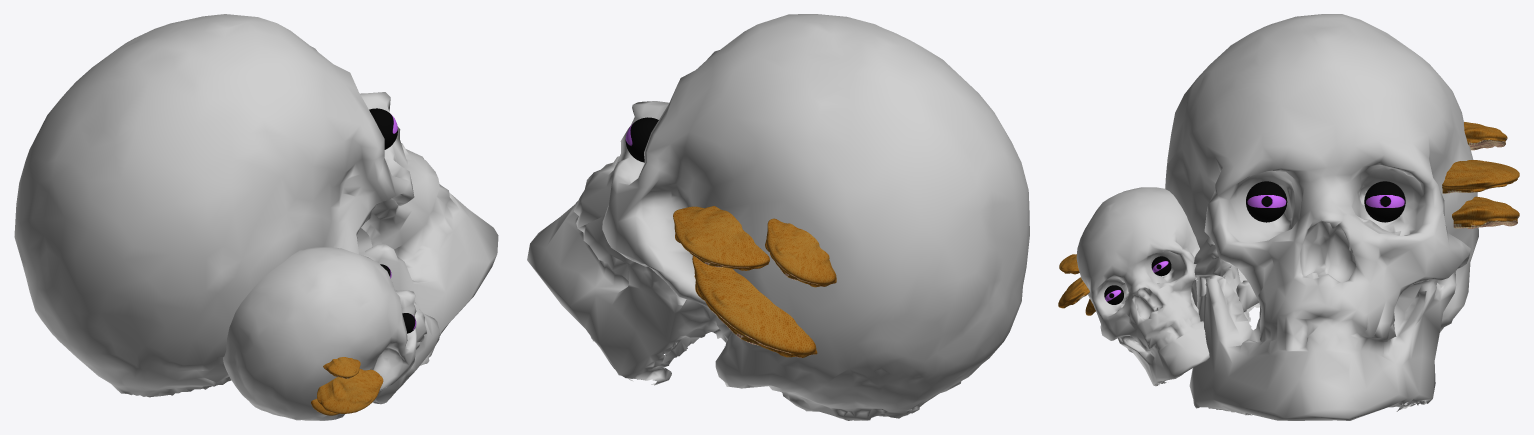
The model's file is myco.fbx.
3 views of the same model, side by side, from view 1: azimuth 30°, elevation 25°; view 2: azimuth 150°, elevation 25°; view 3: azimuth 270°, elevation 25° (orthographic). The views are drawn at different scales.
Parts seen in each view (by area): view 1: Skull, Skull.001, Sphere.003, Eyeball_Right.001, Sphere.004; view 2: Skull, Sphere, Sphere.001, Sphere.002, Eyeball_Right; view 3: Skull, Skull.001, Sphere.001, Sphere, Eyeball_Right, Eyeball_Right.001, Sphere.002, Sphere.003.
Part boxes in pixels (bbox=[...]): Skull: bbox=[14, 14, 498, 397]; Skull.001: bbox=[223, 247, 439, 420]; Sphere.003: bbox=[317, 369, 383, 413]; Eyeball_Right.001: bbox=[369, 108, 397, 149]; Sphere.004: bbox=[323, 357, 360, 378]; Skull: bbox=[527, 14, 1029, 420]; Sphere: bbox=[692, 256, 817, 357]; Sphere.001: bbox=[673, 206, 769, 270]; Sphere.002: bbox=[765, 218, 836, 287]; Eyeball_Right: bbox=[625, 117, 658, 162]; Skull: bbox=[1165, 14, 1478, 420]; Skull.001: bbox=[1076, 187, 1247, 386]; Sphere.001: bbox=[1442, 160, 1519, 193]; Sphere: bbox=[1452, 196, 1519, 228]; Eyeball_Right: bbox=[1364, 181, 1405, 222]; Eyeball_Right.001: bbox=[1246, 181, 1287, 222]; Sphere.002: bbox=[1464, 122, 1507, 150]; Sphere.003: bbox=[1058, 277, 1089, 308].
Bounding box in the file's own units: 357 × 253 × 334.
